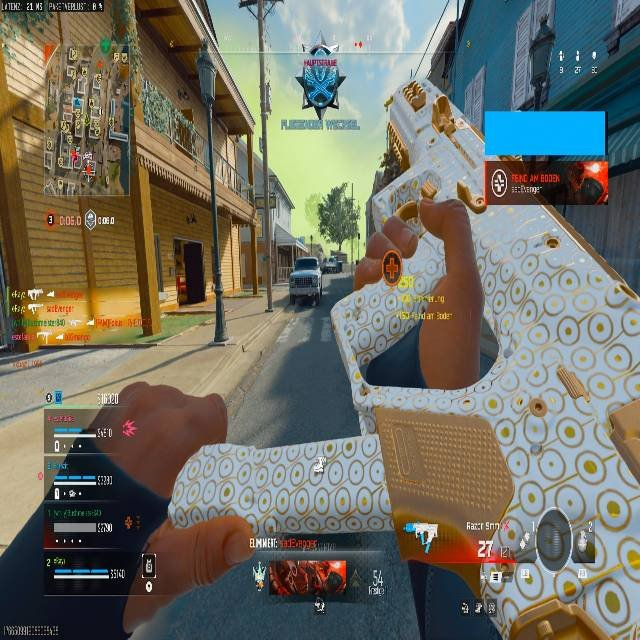player: (295, 43, 347, 119)
